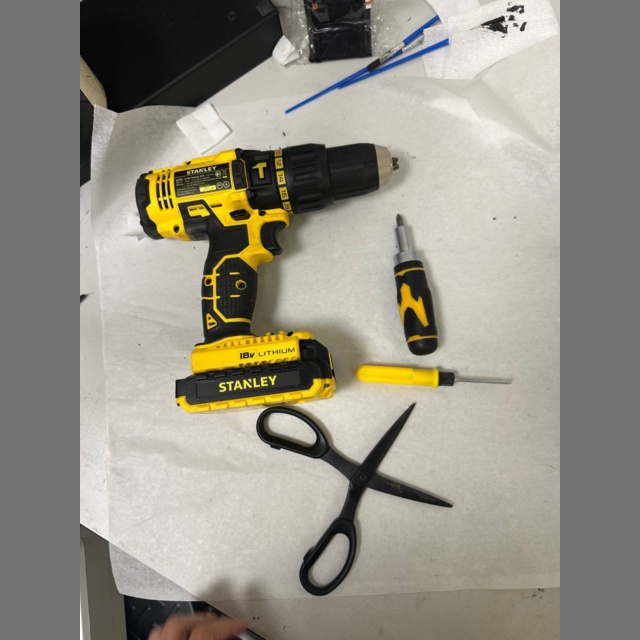drill: (135, 143, 391, 412)
scissor: (257, 402, 452, 595)
screwdriver: (394, 214, 438, 356), (356, 365, 512, 388)
